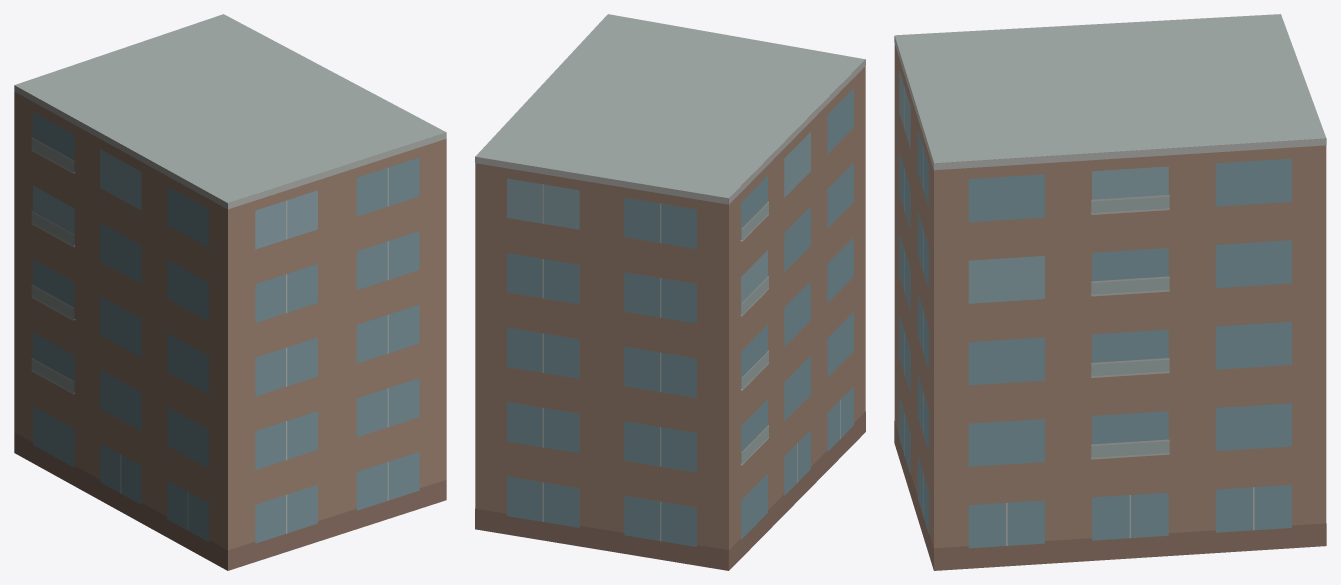
The model's file is survey-upis-32719546.glb.
3 renders of one model, left to right at view 1: azimuth 30°, elevation 25°; view 2: azimuth 150°, elevation 25°; view 3: azimuth 270°, elevation 25°, orthographic. The views are drawn at different scales.
Parts seen in each view (by area): view 1: survey-upis-32719546.tmp; view 2: survey-upis-32719546.tmp; view 3: survey-upis-32719546.tmp.
Boxes of the visible parts, x1,y1,x2,y2 form: survey-upis-32719546.tmp: (14, 14, 446, 570); survey-upis-32719546.tmp: (475, 14, 865, 570); survey-upis-32719546.tmp: (894, 14, 1326, 570).
Size of the model in its own units: 11.16 by 14.2 by 13.65.
